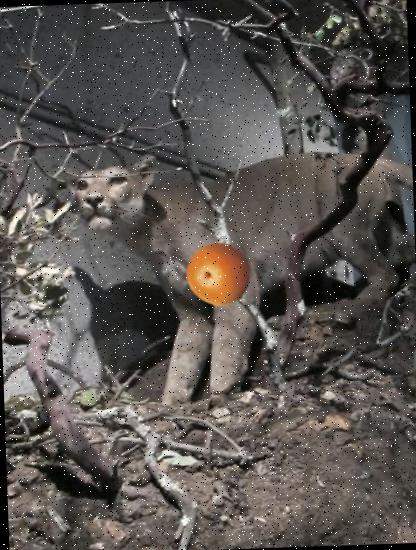Grapefruit: (186, 240, 254, 308)
